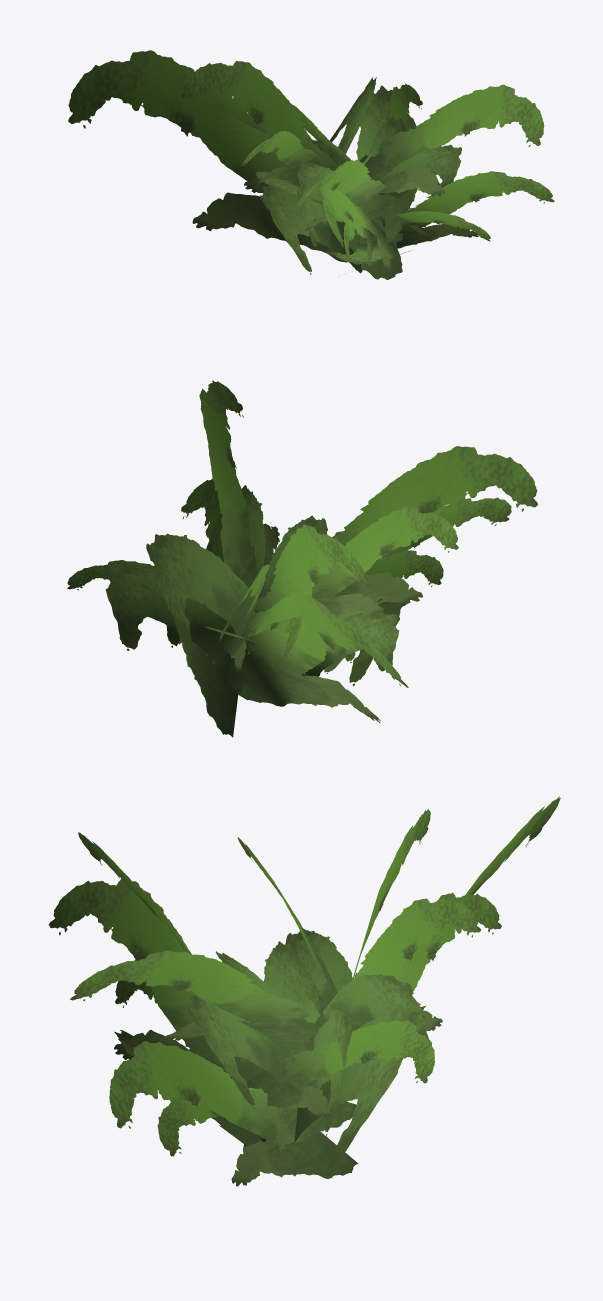
File: Plante01_TransferedNormals.fbx
The picture shows the model from 3 angles, top to bottom: view 1: azimuth 30°, elevation 25°; view 2: azimuth 150°, elevation 25°; view 3: azimuth 270°, elevation 25°; orthographic projection. The views are drawn at different scales.
Visible parts, largest first — view 1: Plante01_TransferedNormals; view 2: Plante01_TransferedNormals; view 3: Plante01_TransferedNormals.
Part boxes in pixels (x1,y1,x2,y2): Plante01_TransferedNormals: [68, 50, 554, 279]; Plante01_TransferedNormals: [67, 380, 537, 737]; Plante01_TransferedNormals: [48, 796, 560, 1186].
Size of the model in its own units: 0.8476 by 0.4239 by 0.7152.
